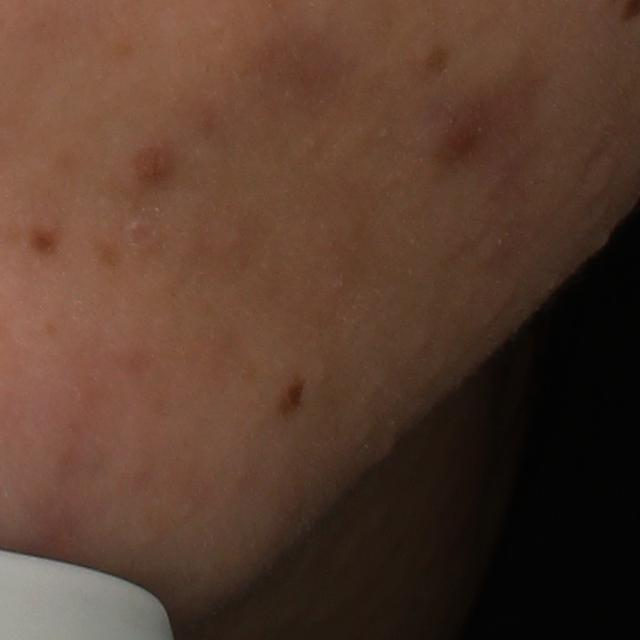nevus: (23, 219, 63, 257), (272, 374, 306, 418)
